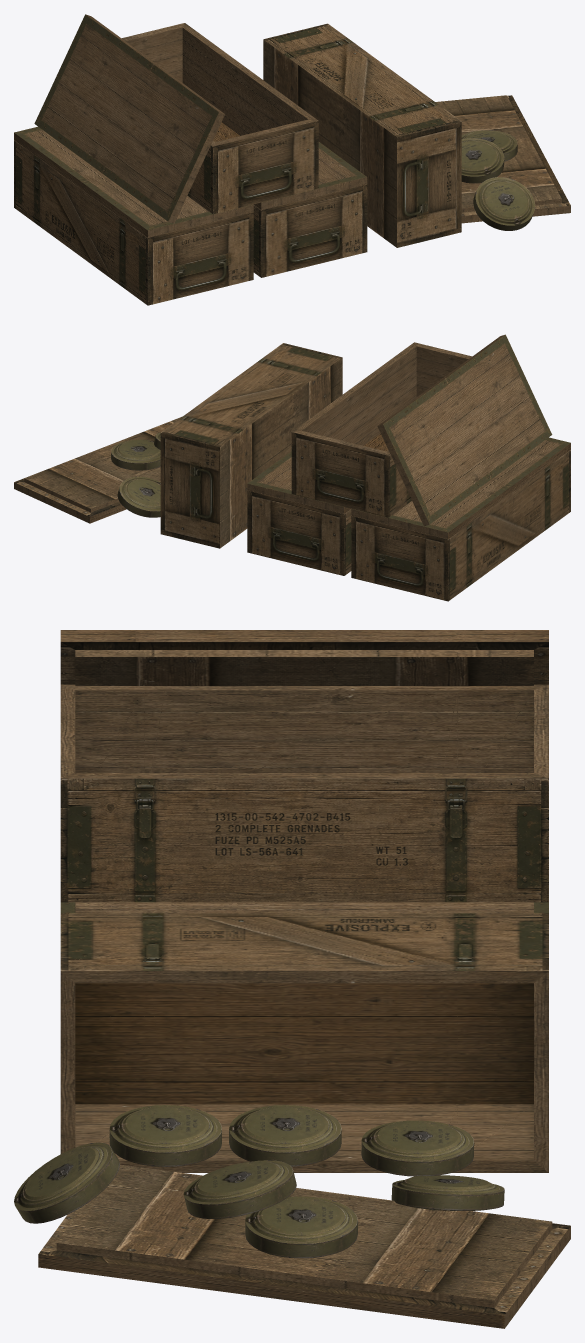
The model's file is crates__mines_background.glb.
3 views of the same model, one above another, from view 1: azimuth 30°, elevation 25°; view 2: azimuth 150°, elevation 25°; view 3: azimuth 270°, elevation 25° (orthographic). The views are drawn at different scales.
Visible parts, largest first — view 1: Crate4, Lid3, Crate3, Crate1, Crate2, Lid4, Lid1, Mine1, Lid2, Mine4, Mine3; view 2: Crate4, Lid3, Crate3, Crate1, Crate2, Lid4, Lid1, Lid2, Mine7, Mine3; view 3: Crate4, Crate3, Lid4, Lid3, Mine6, Lid2, Mine2, Mine3, Mine1, Mine5, Mine4, Mine7.
Part boxes in pixels (left/top/right/bottom): Crate4: left=263, top=23, right=461, bottom=247; Lid3: left=34, top=14, right=224, bottom=223; Crate3: left=122, top=23, right=318, bottom=214; Crate1: left=14, top=140, right=253, bottom=305; Crate2: left=253, top=184, right=367, bottom=277; Lid4: left=435, top=95, right=570, bottom=223; Lid1: left=14, top=126, right=253, bottom=237; Mine1: left=473, top=177, right=535, bottom=230; Lid2: left=254, top=142, right=367, bottom=209; Mine4: left=461, top=138, right=504, bottom=183; Mine3: left=461, top=130, right=517, bottom=161; Crate4: left=160, top=343, right=342, bottom=548; Lid3: left=377, top=334, right=552, bottom=526; Crate3: left=291, top=342, right=471, bottom=517; Crate1: left=351, top=450, right=570, bottom=601; Crate2: left=247, top=490, right=351, bottom=575; Lid4: left=14, top=417, right=181, bottom=523; Lid1: left=351, top=437, right=570, bottom=539; Lid2: left=247, top=451, right=350, bottom=513; Mine7: left=117, top=476, right=160, bottom=517; Mine3: left=111, top=439, right=160, bottom=470; Crate4: left=60, top=913, right=548, bottom=1172; Crate3: left=60, top=684, right=548, bottom=902; Lid4: left=38, top=1164, right=570, bottom=1328; Lid3: left=60, top=630, right=548, bottom=685; Mine6: left=109, top=1105, right=221, bottom=1166; Lid2: left=60, top=902, right=548, bottom=913; Mine2: left=229, top=1105, right=341, bottom=1166; Mine3: left=245, top=1196, right=357, bottom=1258; Mine1: left=14, top=1142, right=119, bottom=1223; Mine5: left=361, top=1120, right=474, bottom=1176; Mine4: left=183, top=1160, right=296, bottom=1218; Mine7: left=391, top=1175, right=504, bottom=1210.
Size of the model in its own units: 5.68 by 2.03 by 3.09.
Materials: 2 (2 with a texture image).
